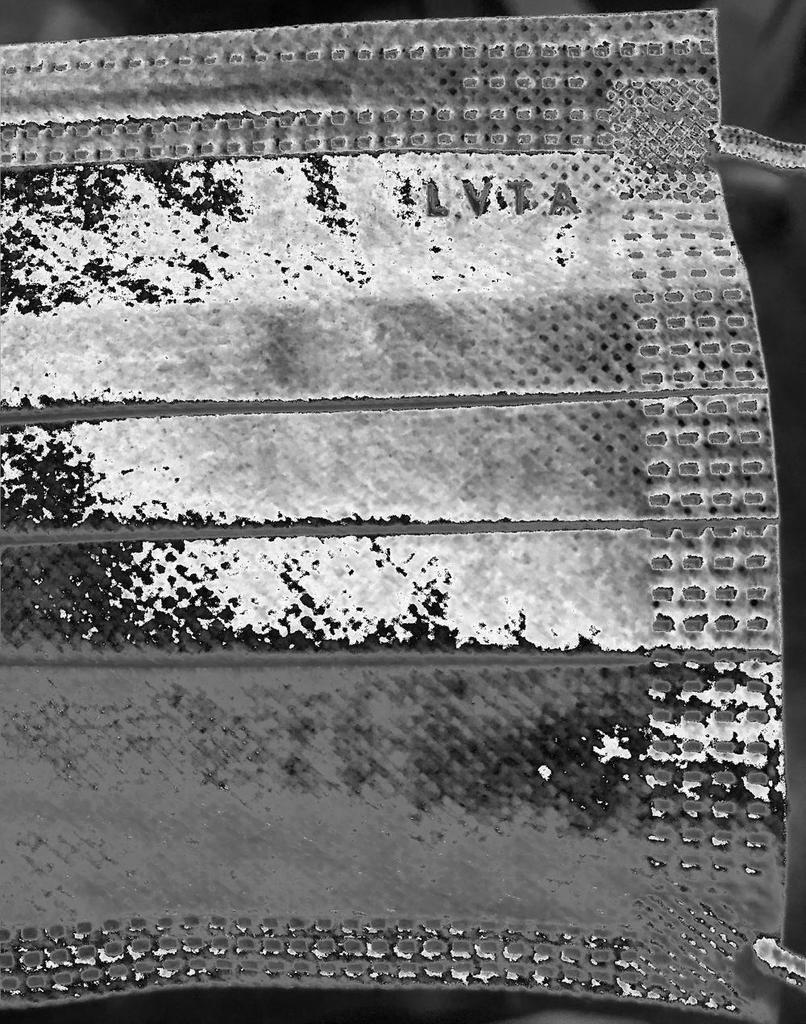High GSM: (6, 151, 779, 651)
